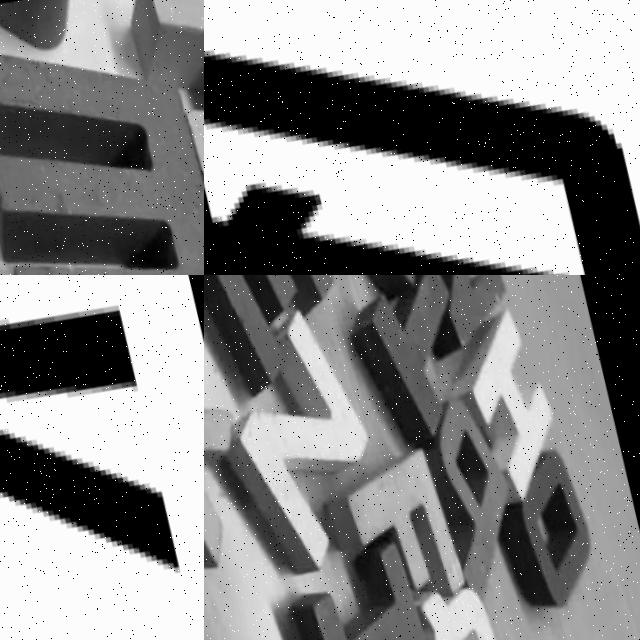F: (329, 416, 477, 624)
H: (434, 297, 575, 498)
I: (271, 522, 459, 640)
M: (0, 4, 204, 275)
N: (402, 275, 523, 352)
O: (488, 444, 615, 608)
Q: (204, 0, 640, 275), (390, 549, 543, 640)
R: (133, 0, 204, 231)
X: (204, 275, 275, 597)
Y: (0, 275, 204, 640)
Z: (204, 298, 399, 588)
